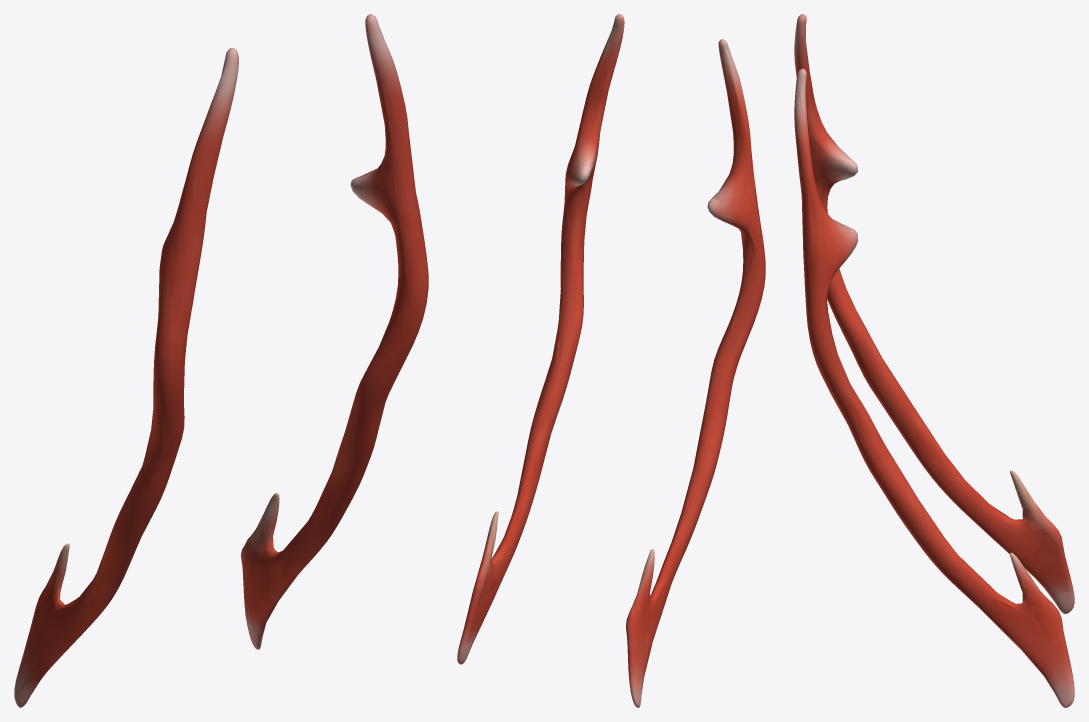
Rendered from Scalenus.fbx.
The picture shows the model from 3 angles, left to right: view 1: azimuth 30°, elevation 25°; view 2: azimuth 150°, elevation 25°; view 3: azimuth 270°, elevation 25°; orthographic projection. The views are drawn at different scales.
Visible parts, largest first — view 1: Scalenus, Scalenus low; view 2: Scalenus, Scalenus low; view 3: Scalenus, Scalenus low.
Part boxes in pixels (x1,y1,x2,y2): Scalenus: [14, 14, 428, 707]; Scalenus low: [14, 20, 426, 703]; Scalenus: [457, 14, 765, 707]; Scalenus low: [457, 21, 762, 703]; Scalenus: [794, 14, 1074, 707]; Scalenus low: [796, 24, 1074, 702].
Bounding box in the file's own units: 15.12 × 40.9 × 16.78.
Materials: 1 (1 with a texture image).
